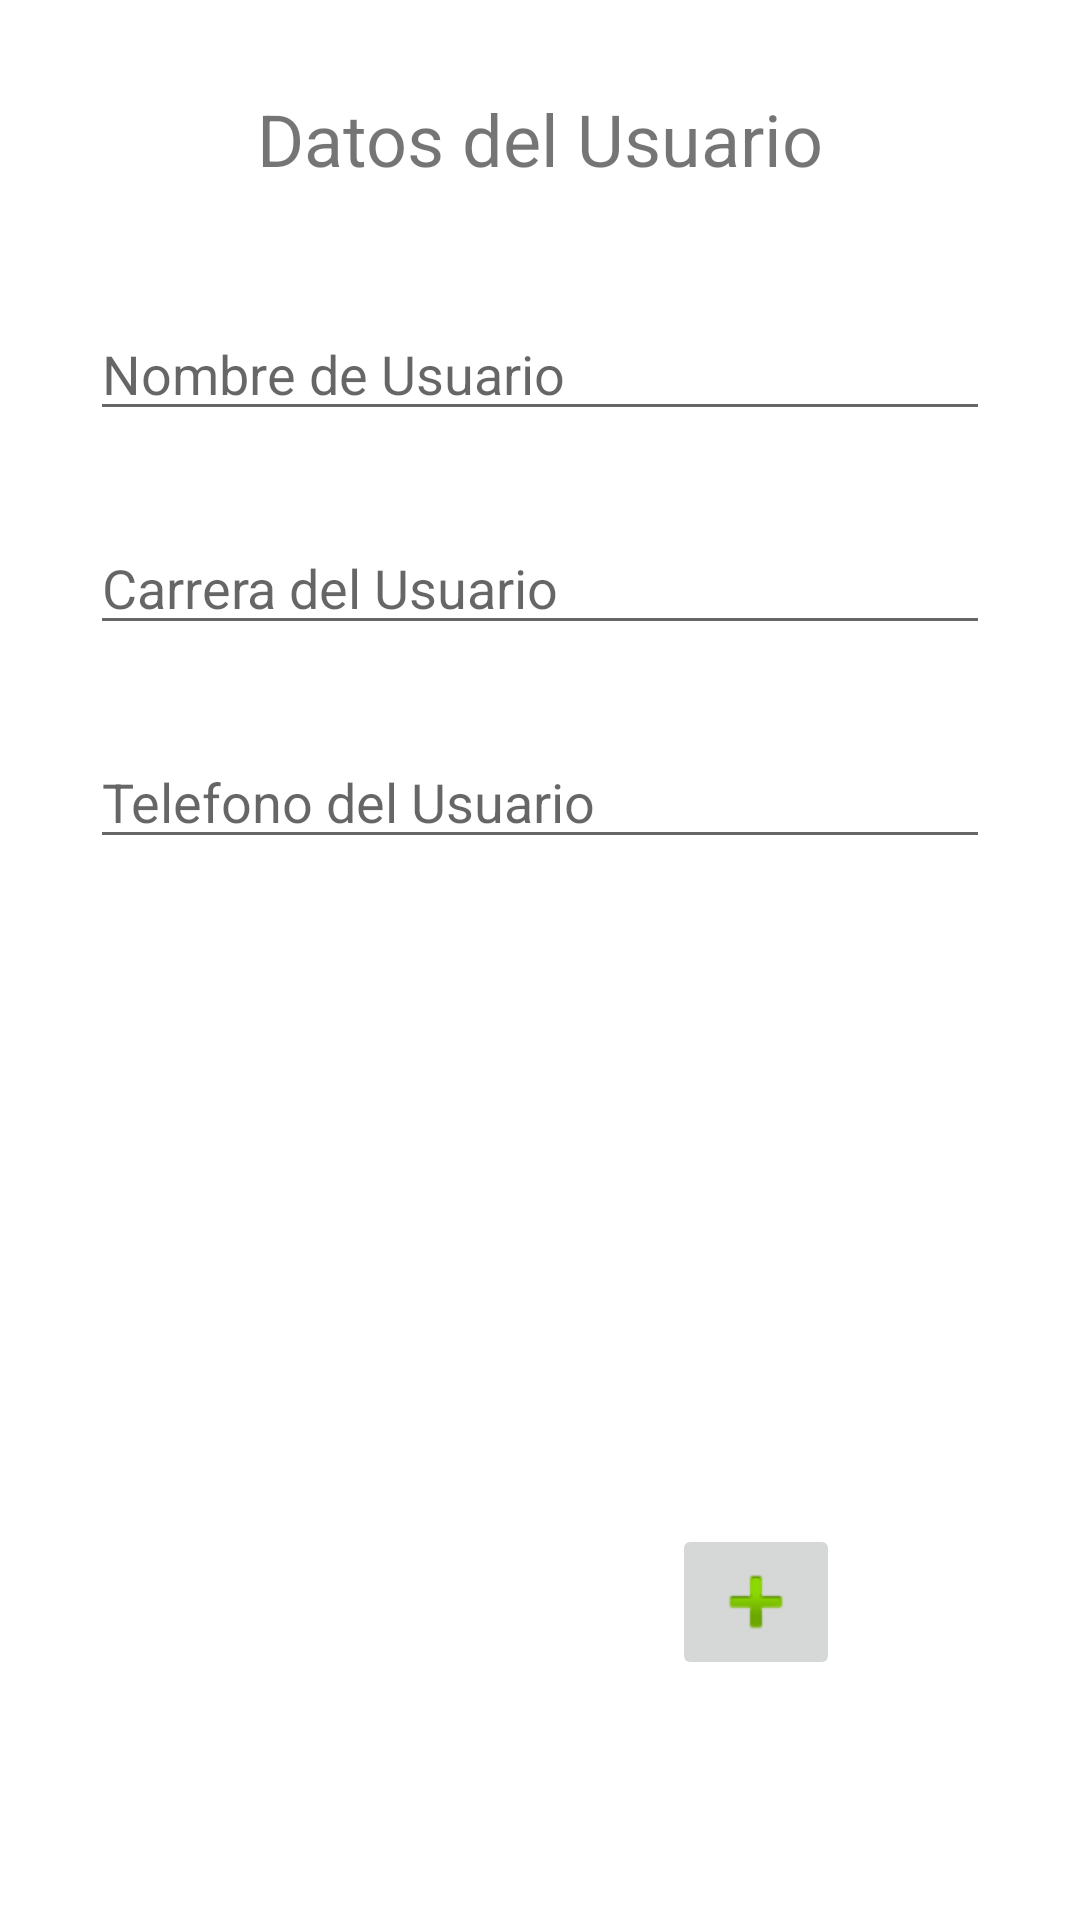

Screen size 1080 x 1920. Icon name, then its box in pixels as bbox=(x1, y1, x2, y2):
add: bbox=(684, 1542, 828, 1662)
